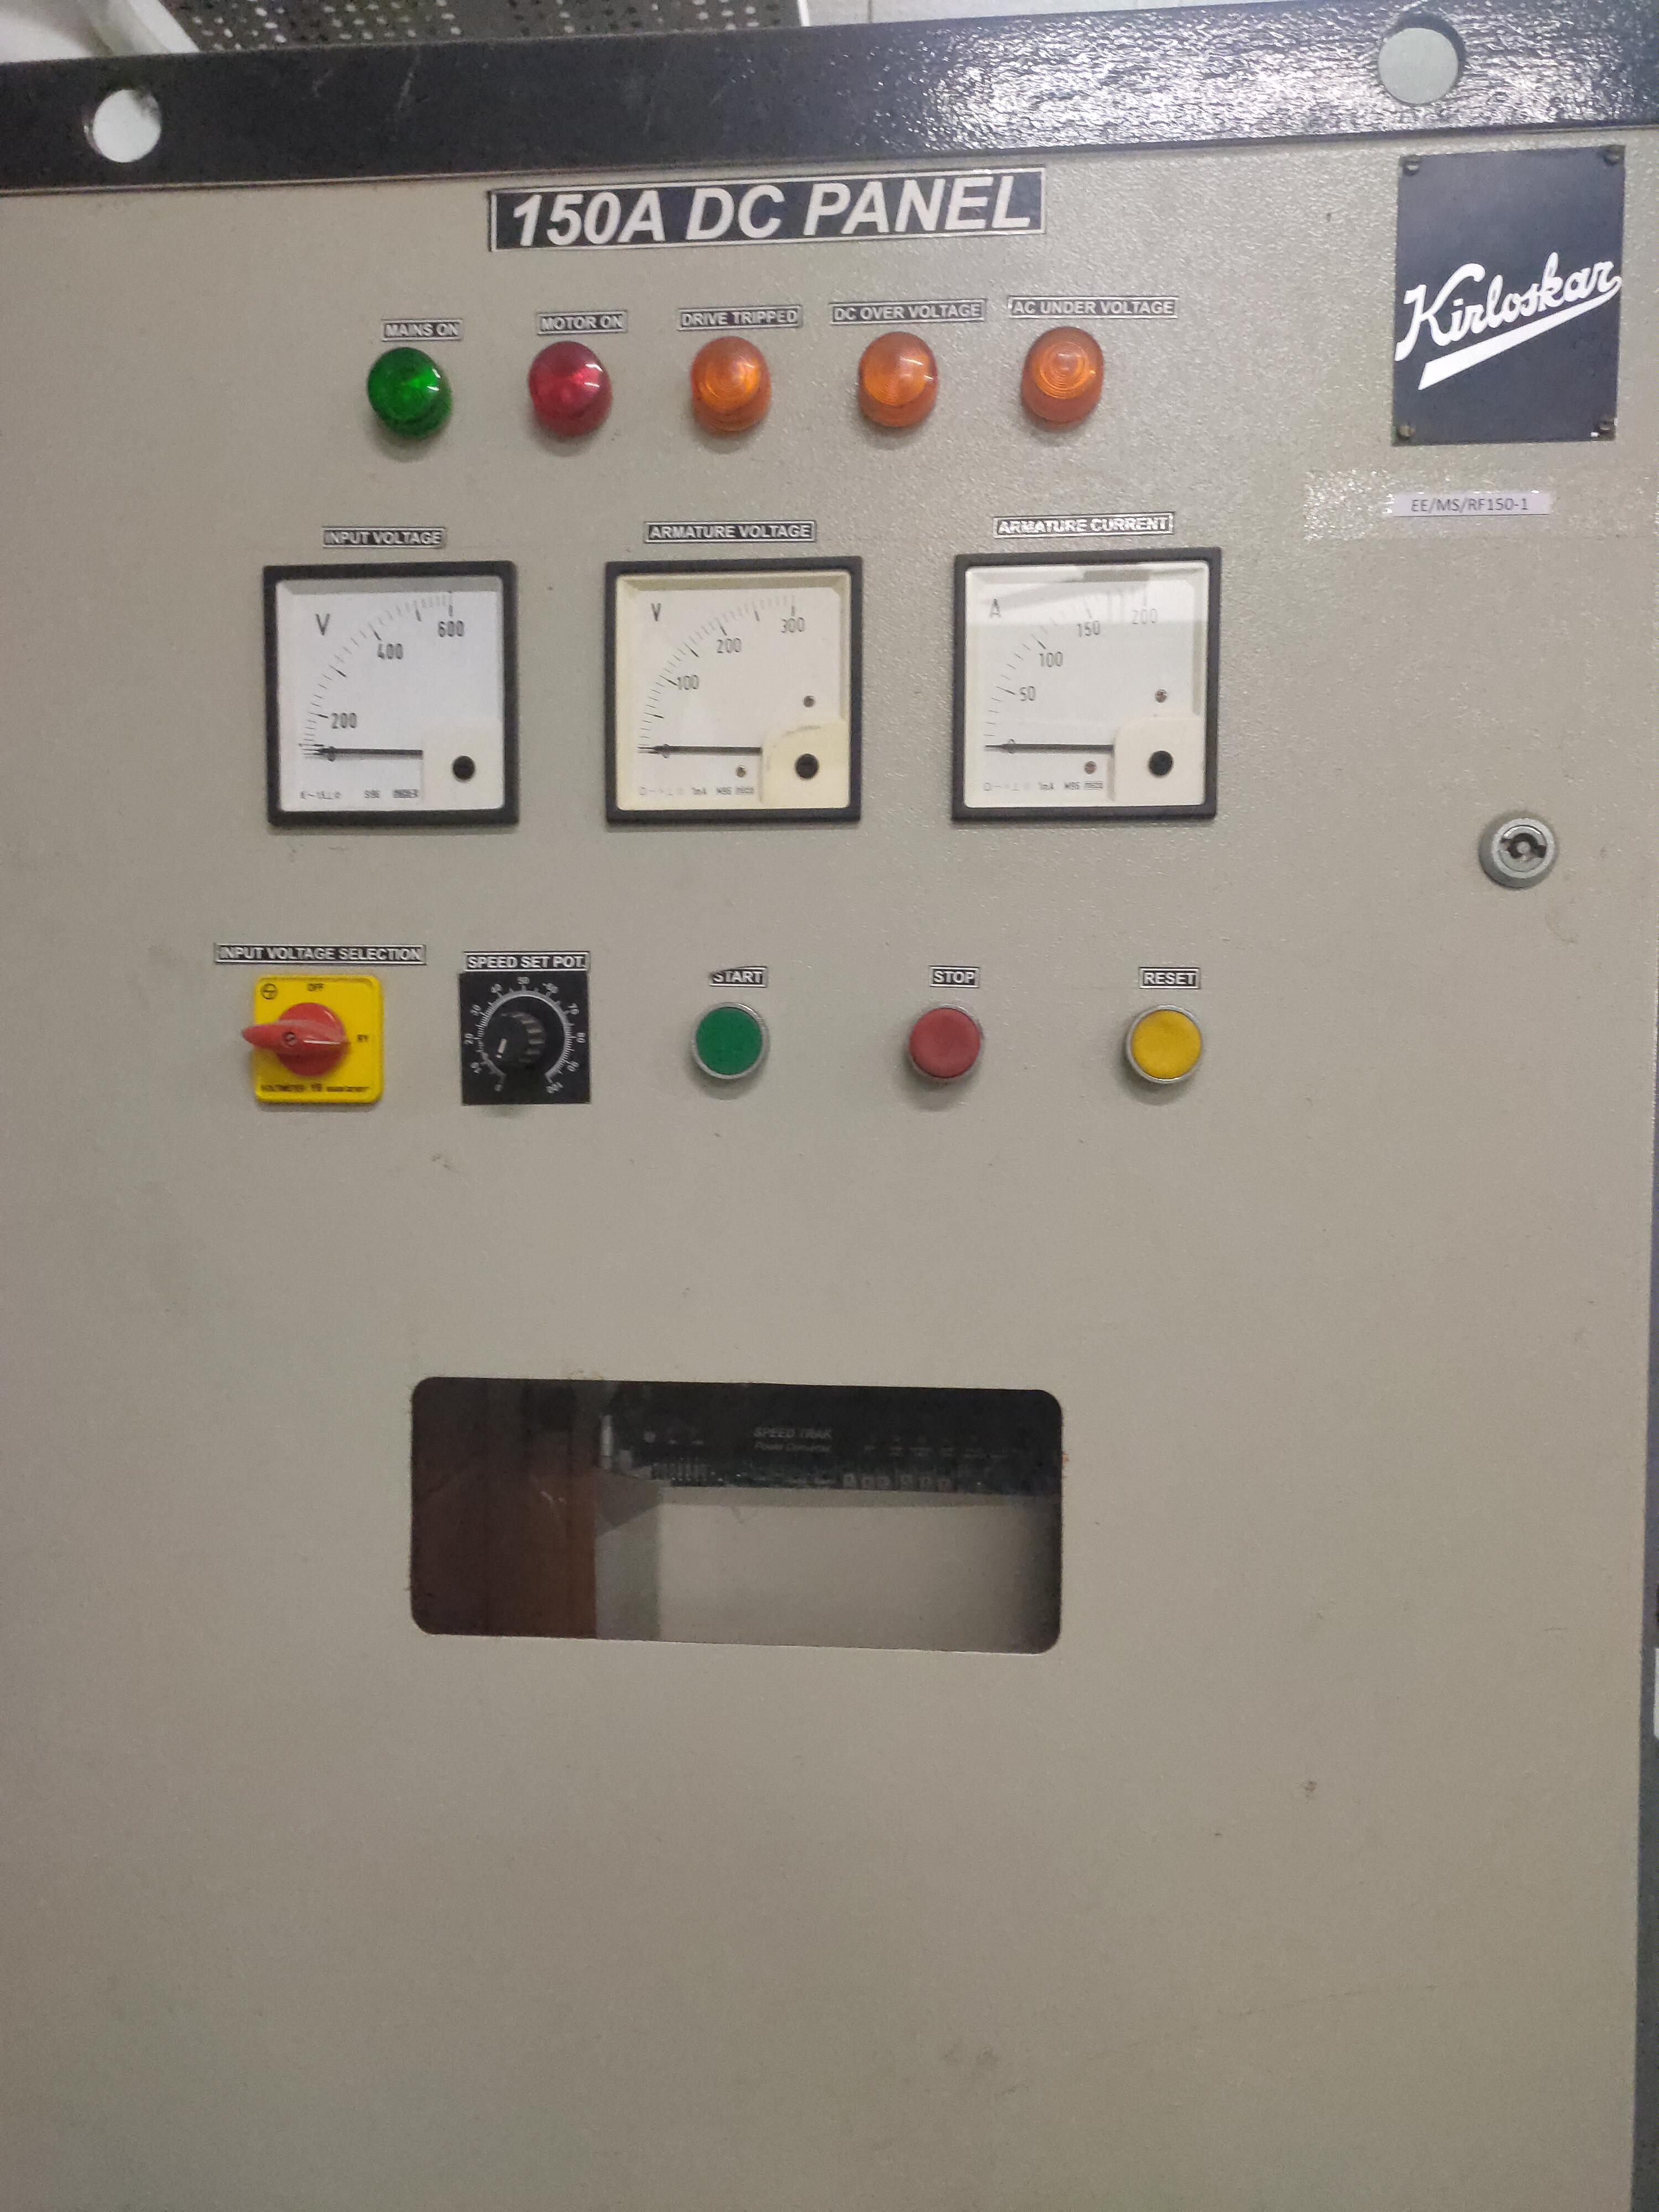Light Indications: (331, 291, 1129, 502)
